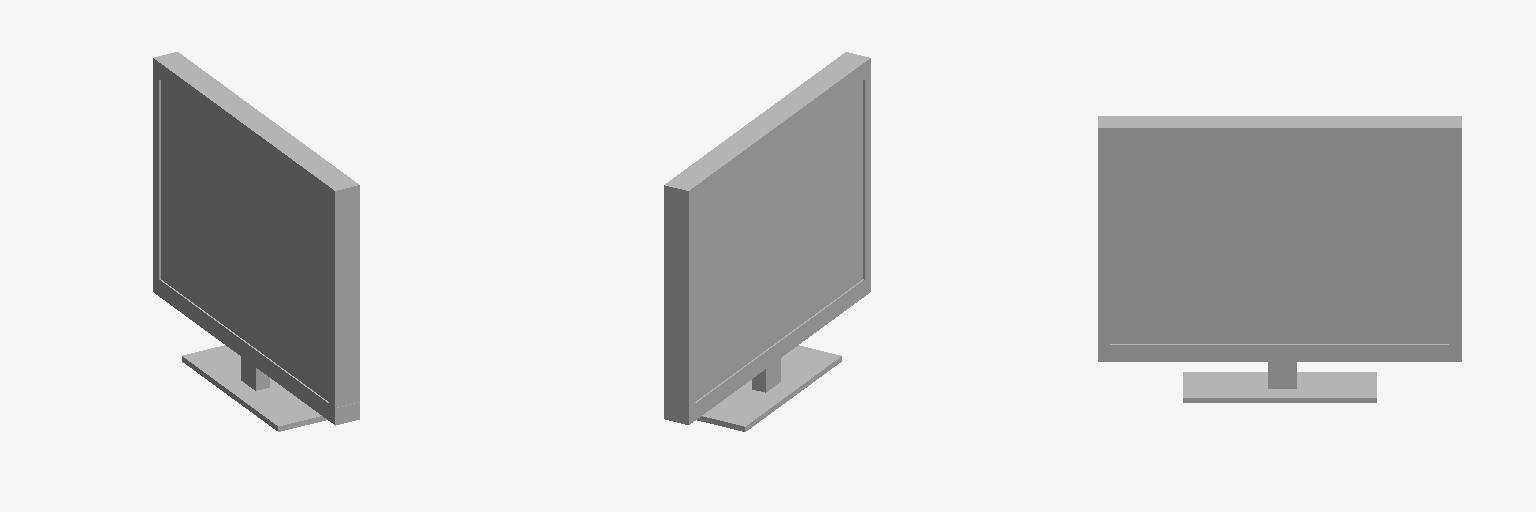
Rendered from monitor.obj.
The picture shows the model from 3 angles: view 1: azimuth 30°, elevation 25°; view 2: azimuth 150°, elevation 25°; view 3: azimuth 270°, elevation 25°; orthographic projection.
Visible parts, largest first — view 1: Cube_Cube.001, Cube.002_Cube.003, Cube.003_Cube.004, Cube.006_Cube.007, Cube.001_Cube.002, Cube.004_Cube.005, Cube.005_Cube.006; view 2: Cube_Cube.001, Cube.002_Cube.003, Cube.004_Cube.005, Cube.006_Cube.007, Cube.001_Cube.002, Cube.003_Cube.004, Cube.005_Cube.006; view 3: Cube_Cube.001, Cube.002_Cube.003, Cube.001_Cube.002, Cube.006_Cube.007, Cube.004_Cube.005, Cube.003_Cube.004, Cube.005_Cube.006.
Part boxes in pixels (x1,y1,x2,y2): Cube_Cube.001: (161, 81, 328, 401); Cube.002_Cube.003: (153, 52, 359, 207); Cube.003_Cube.004: (329, 202, 359, 407); Cube.006_Cube.007: (182, 345, 326, 431); Cube.001_Cube.002: (153, 275, 359, 425); Cube.004_Cube.005: (153, 75, 160, 279); Cube.005_Cube.006: (241, 357, 269, 390); Cube_Cube.001: (695, 81, 862, 401); Cube.002_Cube.003: (664, 52, 870, 207); Cube.004_Cube.005: (664, 203, 694, 407); Cube.006_Cube.007: (697, 345, 841, 431); Cube.001_Cube.002: (664, 275, 870, 424); Cube.003_Cube.004: (863, 75, 870, 279); Cube.005_Cube.006: (752, 358, 780, 392); Cube_Cube.001: (1110, 145, 1448, 343); Cube.002_Cube.003: (1098, 116, 1461, 144); Cube.001_Cube.002: (1098, 344, 1461, 361); Cube.006_Cube.007: (1183, 372, 1376, 402); Cube.004_Cube.005: (1449, 145, 1461, 344); Cube.003_Cube.004: (1098, 145, 1109, 344); Cube.005_Cube.006: (1268, 362, 1296, 388).
Size of the model in its own units: 0.3295 by 1.63 by 2.01.